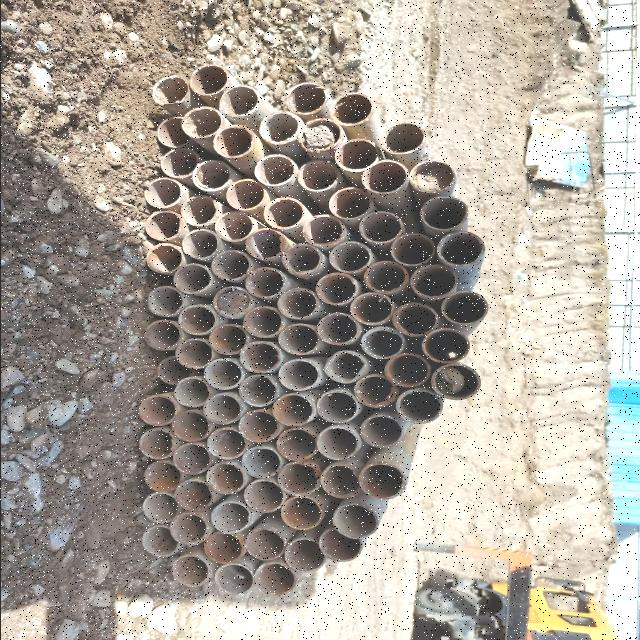pipe: (433, 364, 485, 404), (359, 158, 411, 196), (394, 387, 444, 425), (380, 118, 430, 156), (436, 231, 488, 267), (419, 196, 474, 230), (282, 535, 324, 577), (317, 526, 363, 564), (359, 461, 402, 501), (394, 300, 439, 338), (408, 265, 456, 300), (260, 109, 302, 149), (360, 412, 406, 448), (334, 138, 380, 174), (226, 177, 268, 216), (331, 88, 375, 125), (331, 503, 376, 539), (386, 352, 431, 388), (391, 232, 436, 268), (422, 330, 472, 362), (411, 161, 461, 193), (277, 426, 319, 464), (298, 157, 340, 195), (212, 124, 256, 160), (361, 324, 405, 360), (318, 311, 362, 347), (316, 270, 360, 306), (253, 153, 297, 189), (321, 462, 359, 502), (265, 194, 305, 232), (282, 495, 324, 531), (243, 480, 285, 516), (238, 409, 280, 445), (304, 213, 346, 249), (215, 209, 257, 245), (278, 462, 322, 496), (442, 290, 486, 324), (314, 426, 356, 461), (205, 461, 245, 497), (174, 477, 214, 513), (354, 374, 394, 410), (318, 389, 360, 423), (170, 409, 212, 443), (300, 118, 342, 152), (365, 260, 407, 294), (360, 209, 402, 243), (282, 242, 324, 276), (209, 248, 251, 282), (150, 72, 192, 106), (284, 82, 328, 114), (242, 446, 282, 481), (212, 286, 255, 318), (256, 562, 294, 598), (172, 554, 210, 590), (278, 359, 322, 390), (221, 86, 261, 120), (350, 292, 390, 326), (331, 186, 371, 220), (202, 394, 244, 426), (158, 149, 200, 181), (242, 228, 284, 260), (204, 532, 244, 565), (142, 461, 182, 494), (178, 194, 218, 227), (242, 305, 282, 338), (147, 285, 185, 319), (246, 526, 284, 560), (170, 512, 208, 546), (138, 392, 176, 426), (184, 228, 222, 262), (174, 262, 212, 296), (140, 492, 180, 524), (325, 350, 365, 382), (136, 428, 178, 458), (140, 178, 182, 208), (193, 159, 230, 193), (203, 359, 243, 390), (174, 338, 214, 369), (189, 64, 229, 95), (157, 115, 197, 146), (270, 396, 314, 424), (140, 523, 176, 557), (280, 286, 316, 320), (207, 426, 244, 459), (240, 374, 278, 406), (144, 243, 182, 275), (143, 320, 181, 352), (156, 354, 194, 386), (172, 443, 212, 473), (142, 210, 182, 240), (247, 268, 284, 300), (210, 323, 244, 357), (214, 502, 248, 536), (177, 303, 213, 335), (282, 324, 318, 356), (173, 377, 210, 407), (214, 564, 250, 594), (332, 242, 368, 272), (242, 342, 276, 373)
